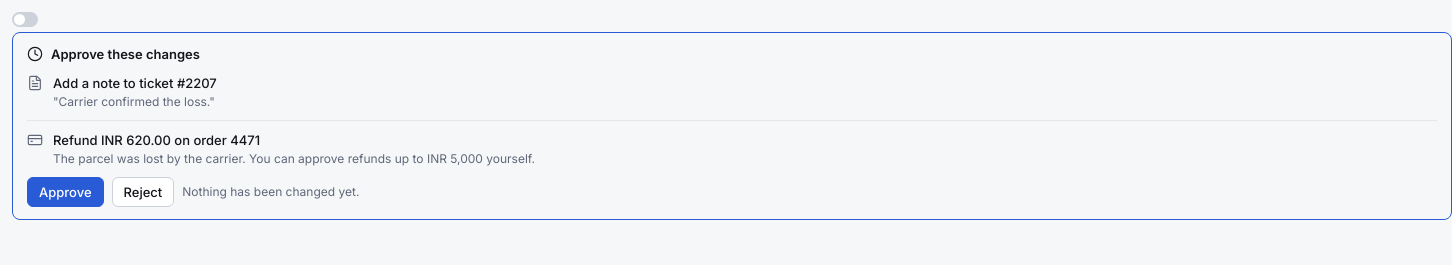
Test: an approval that is slow or fails › shows plain words when approving fails for a reason it cannot name
The image size is (1452, 265).
Click the button "Approve" at (65, 192), box [27,177,104,207]
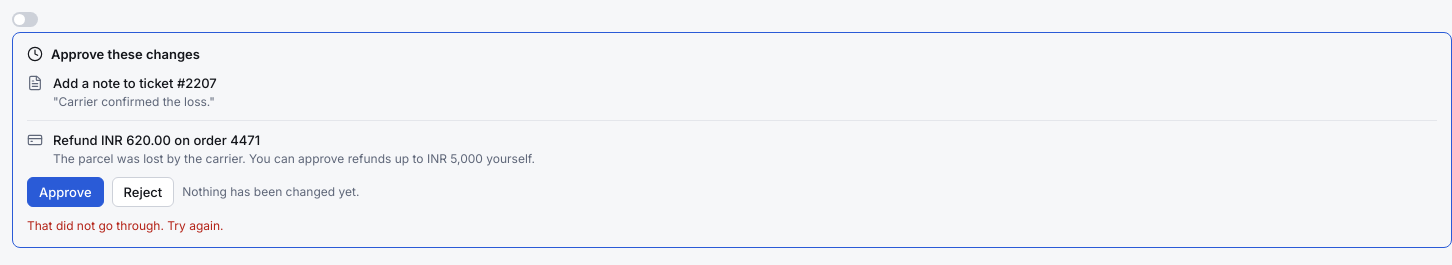
Expected: the message reads "That did not go through. Try again.", [27,218,224,233]
